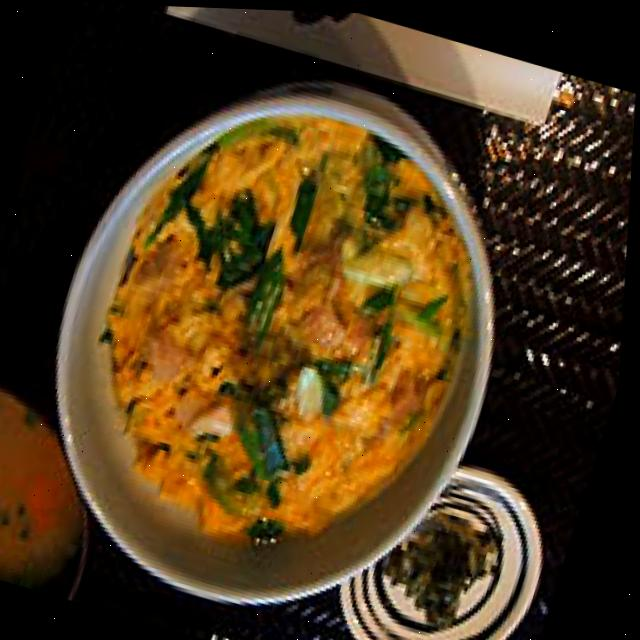米饭主食: (0, 9, 572, 640)
